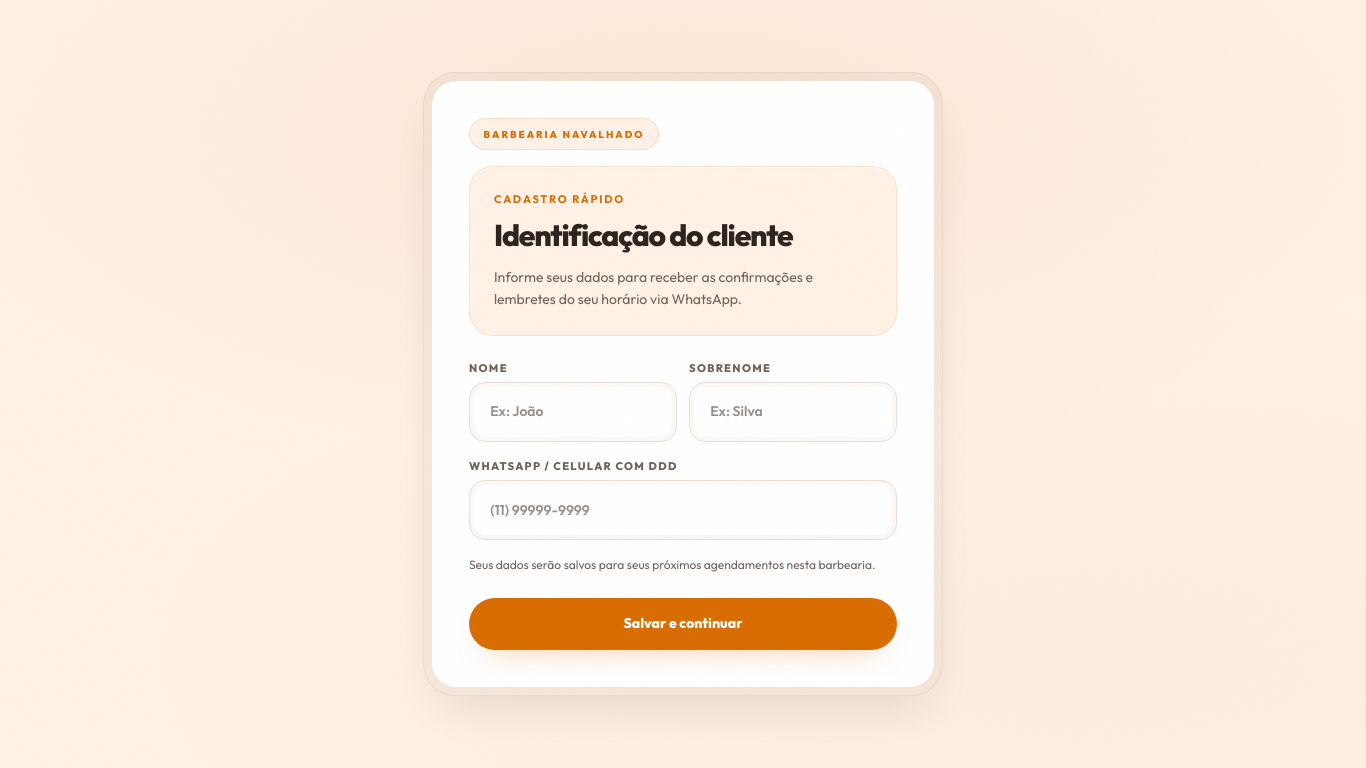
CadastroInicialCliente Component › blocks submission when fields are incomplete and shows validation errors
The width and height of the screenshot is (1366, 768).
# Tentativa vazia
Click the button "Salvar e continuar" at (683, 624), box [469,598,897,650]
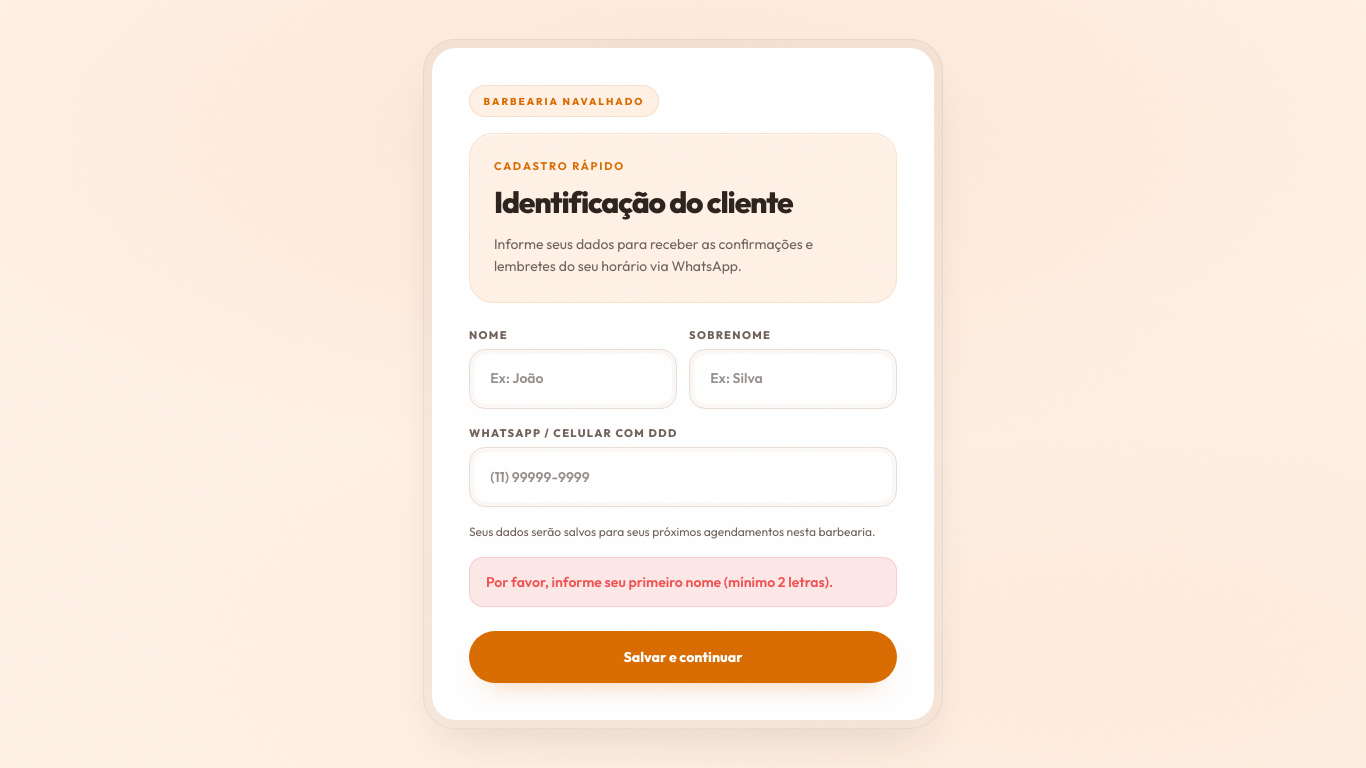
expect the text "Por favor, informe seu primeiro nome (mínimo 2 letras)." is shown: met, box [469,557,897,607]
# Primeiro nome preenchido, falta sobrenome
Type "Jonathas" into the field with placeholder "Ex: João" at (573, 379), box [474,354,672,404]
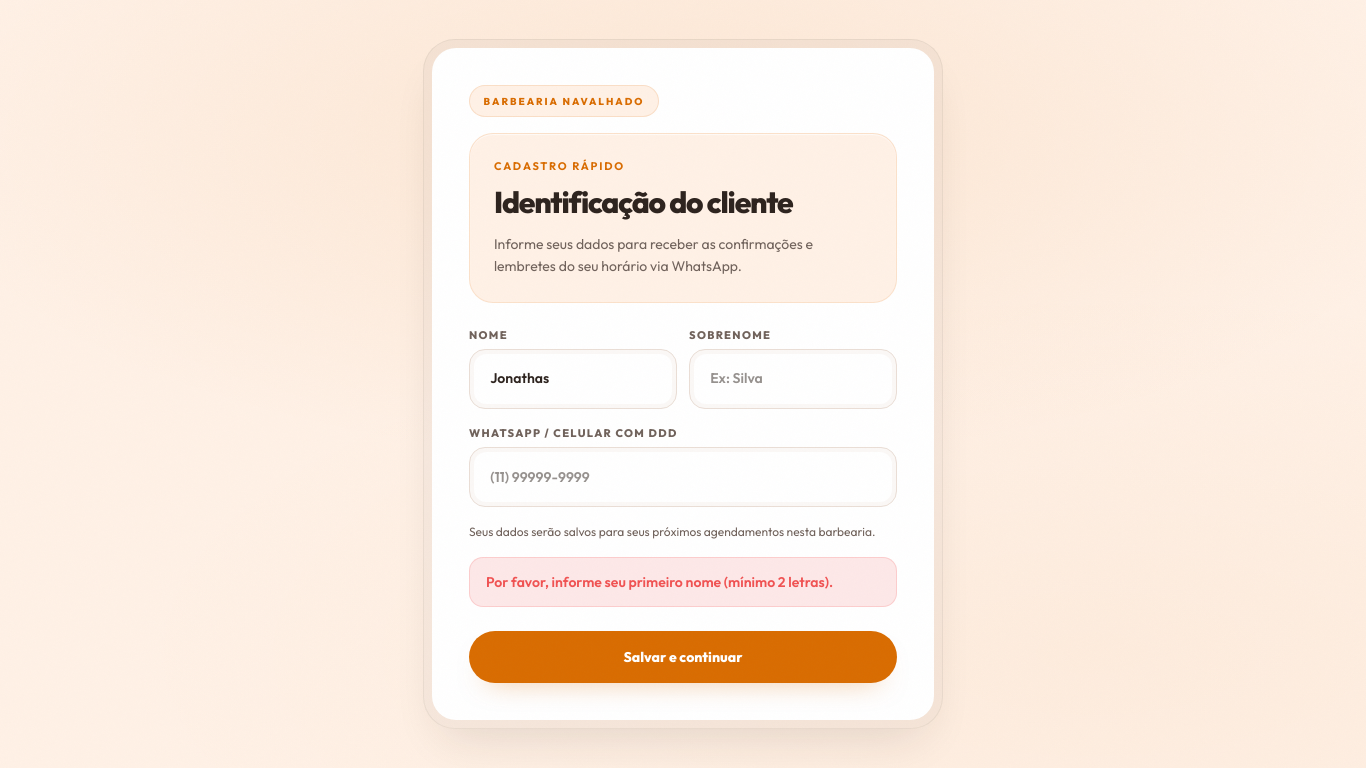
Click the button "Salvar e continuar" at (683, 657), box [469,631,897,683]
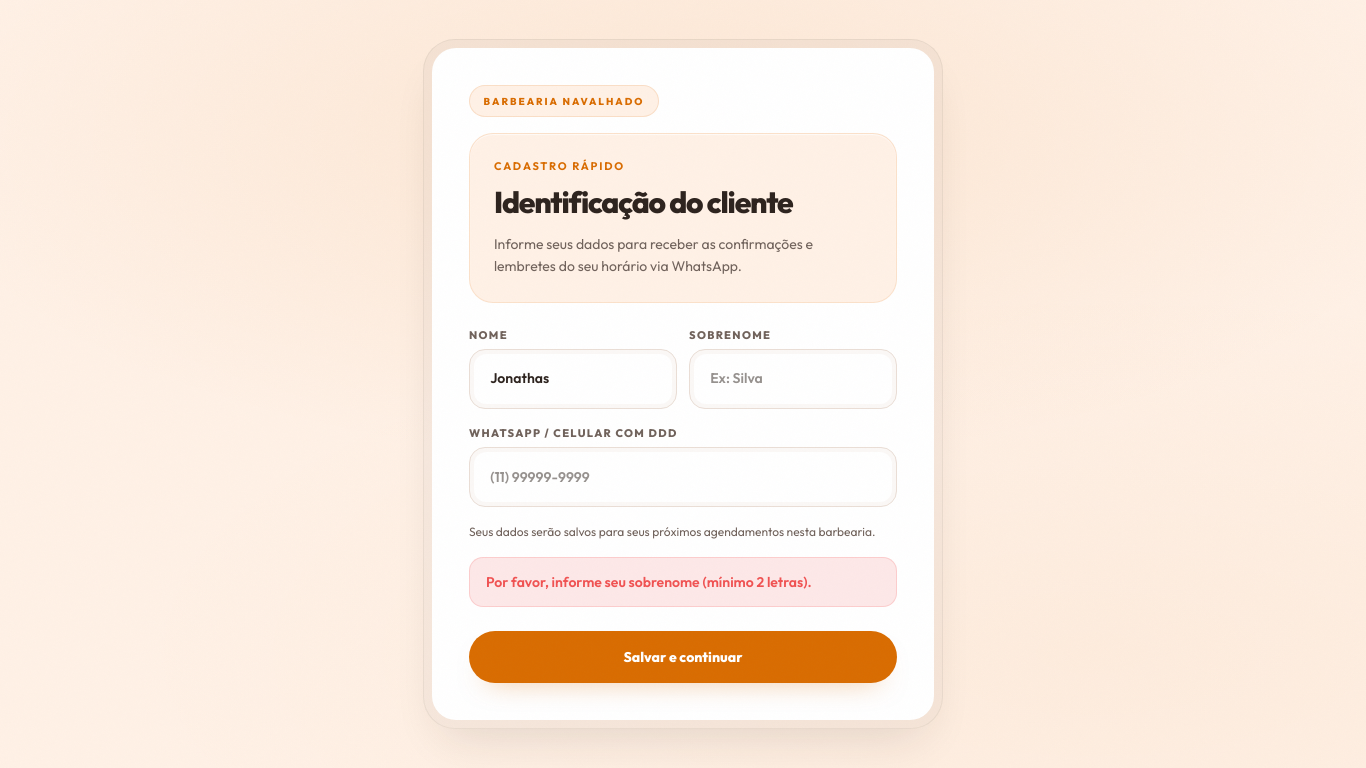
expect the text "Por favor, informe seu sobrenome (mínimo 2 letras)." is shown: met, box [469,557,897,607]
# Sobrenome preenchido, falta telefone
Type "Resplande" into the field with placeholder "Ex: Silva" at (793, 379), box [694,354,892,404]
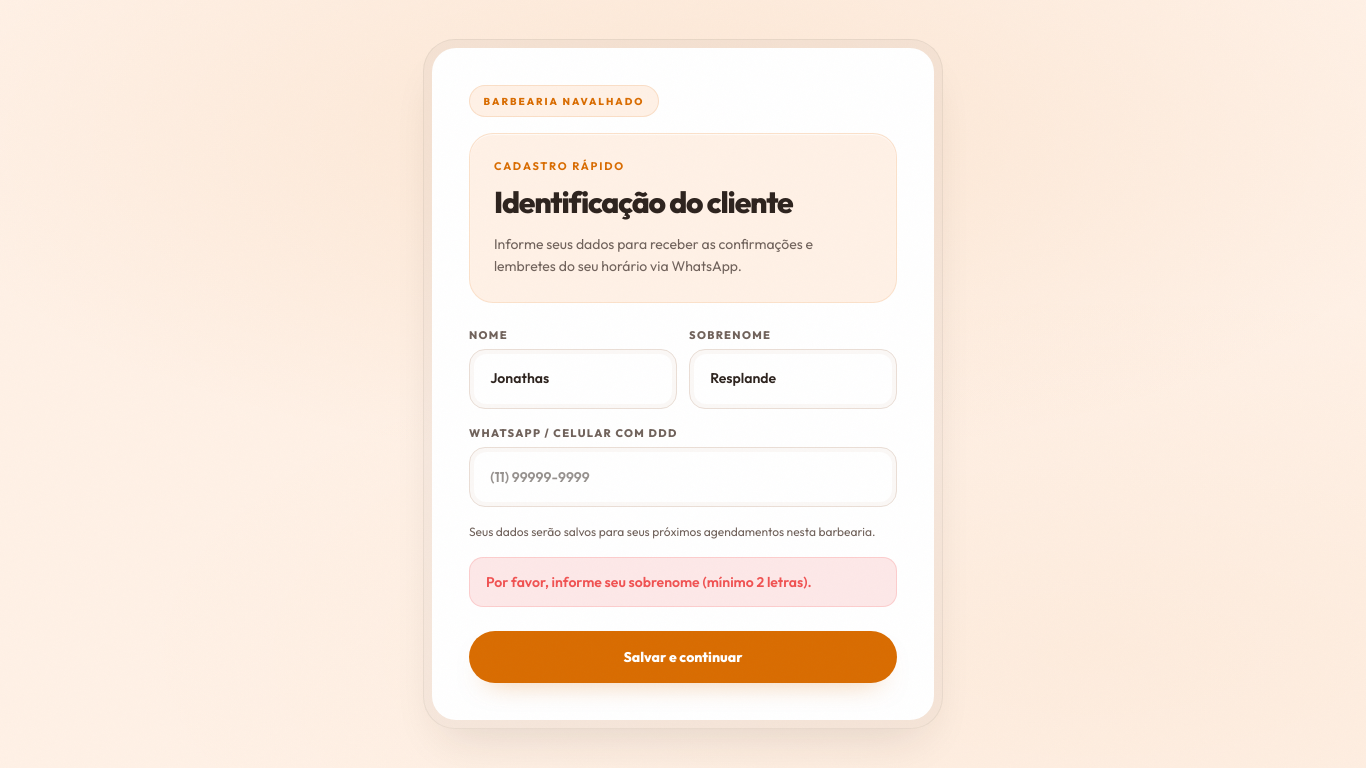
Click the button "Salvar e continuar" at (683, 657), box [469,631,897,683]
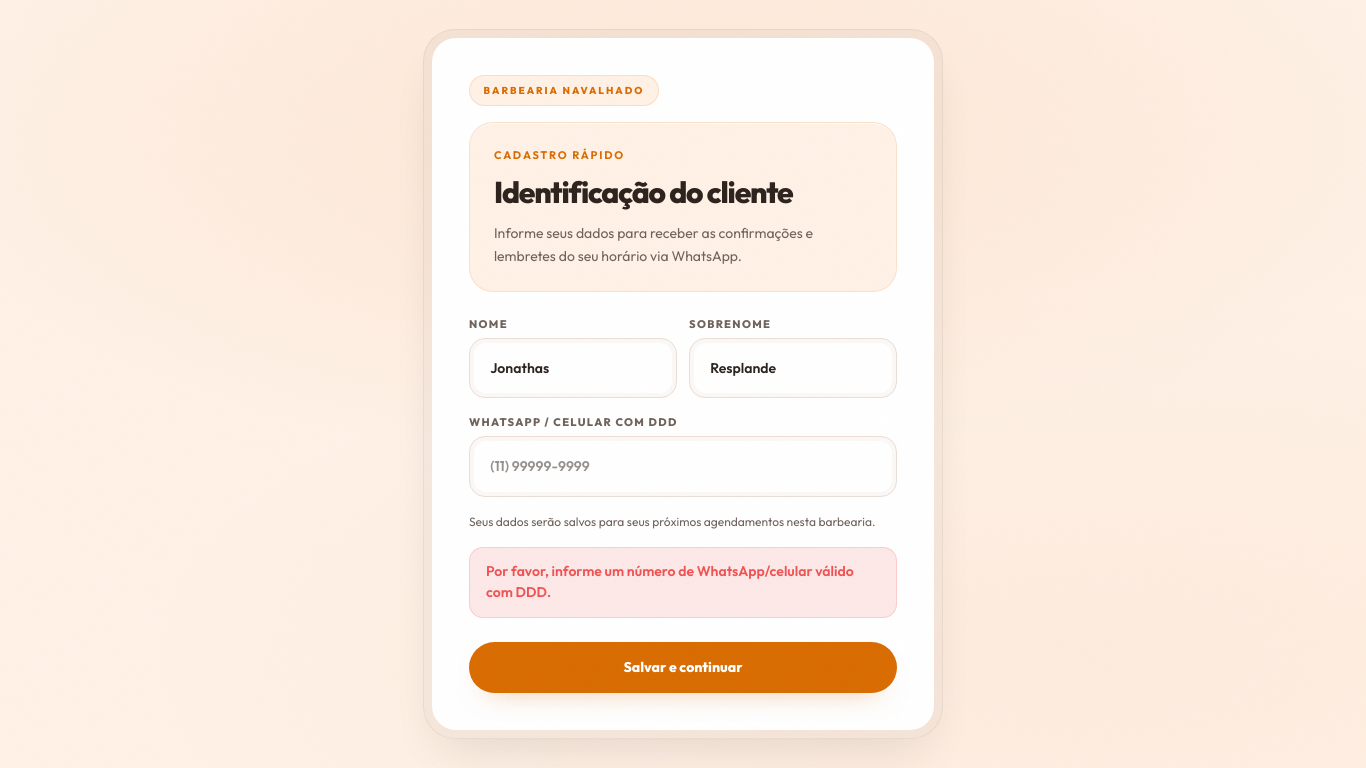
expect the text "Por favor, informe um número de WhatsApp/celular válido com DDD." is shown: met, box [469,547,897,618]
